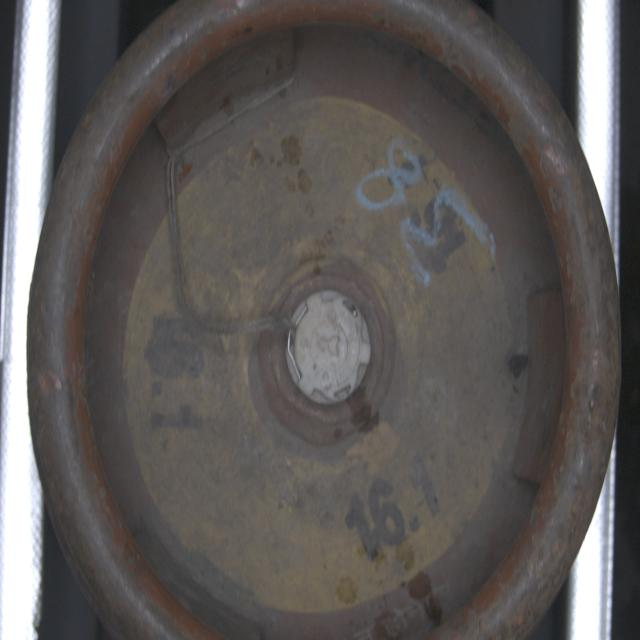Cap: (285, 286, 375, 410)
